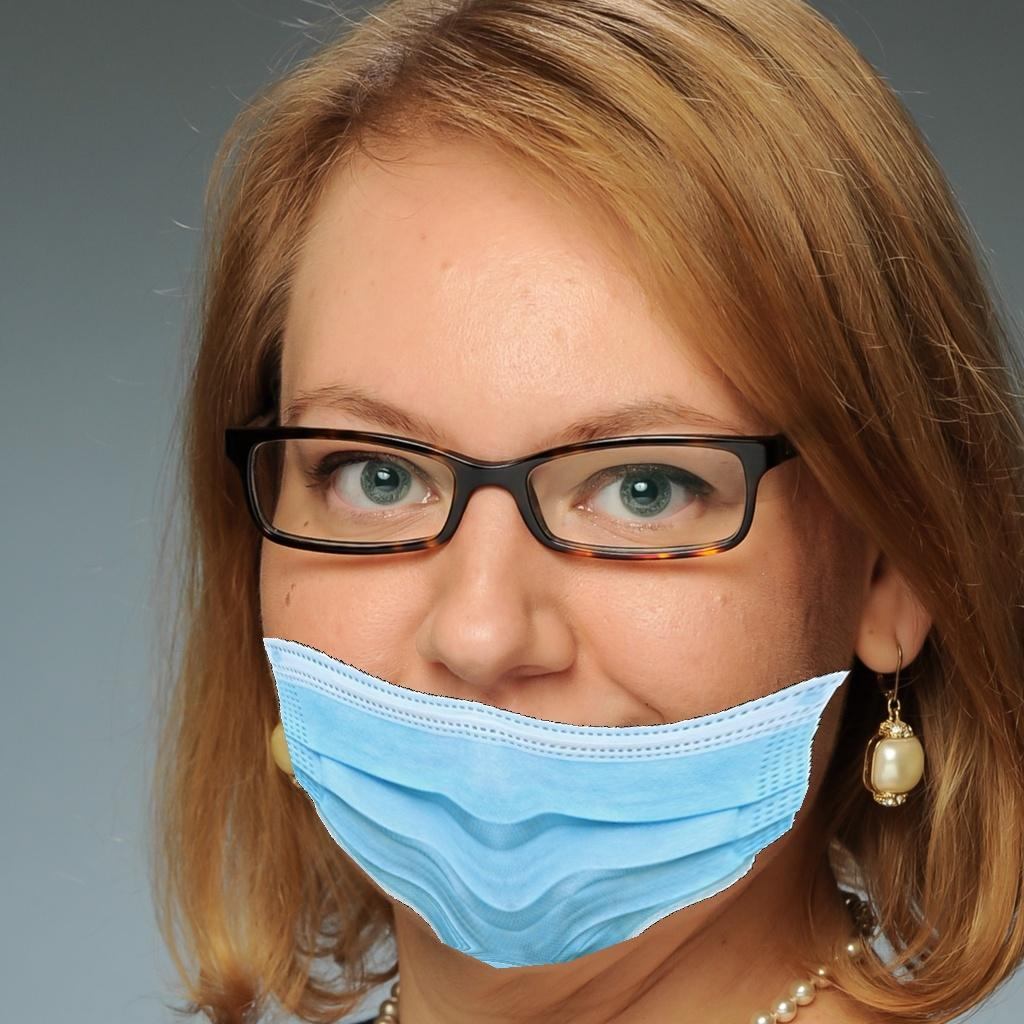Máscara Incorreta: (236, 220, 850, 966)
